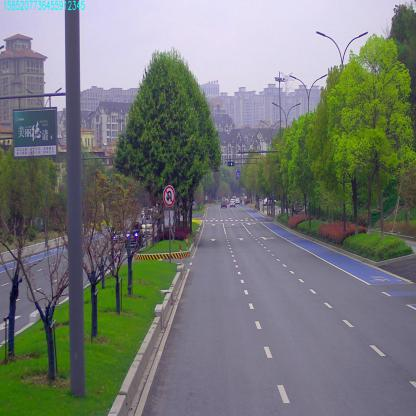traffic-light: (228, 161, 235, 167)
